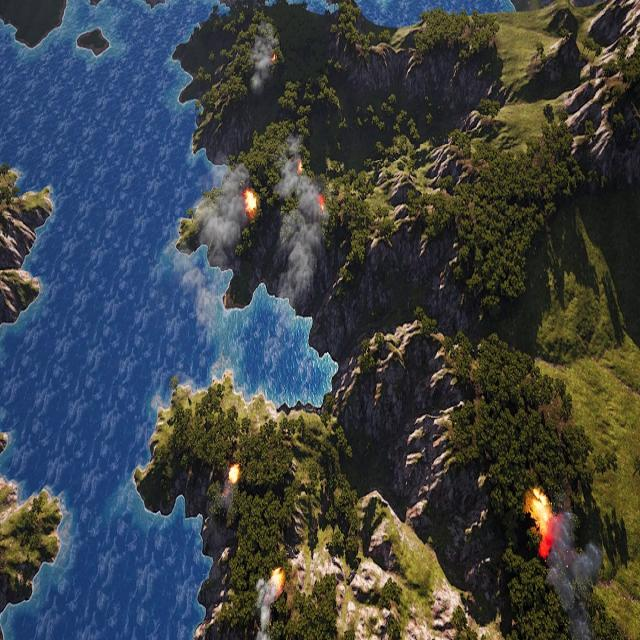fire: (526, 489, 551, 550), (244, 190, 258, 217), (229, 464, 241, 482), (316, 194, 326, 213), (297, 163, 304, 175), (271, 54, 276, 64)
smoke: (276, 141, 332, 340), (542, 505, 604, 640), (200, 161, 252, 264), (249, 32, 276, 99)
